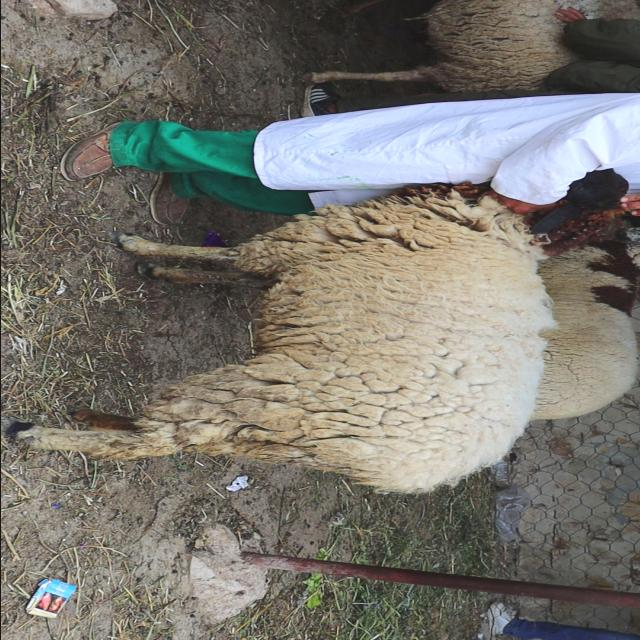Score_3: (14, 169, 627, 492)
